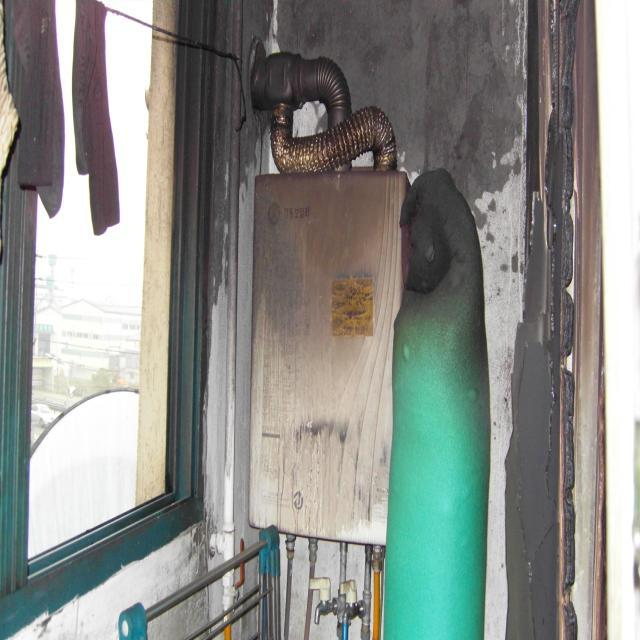Boiler: (220, 118, 440, 582)
